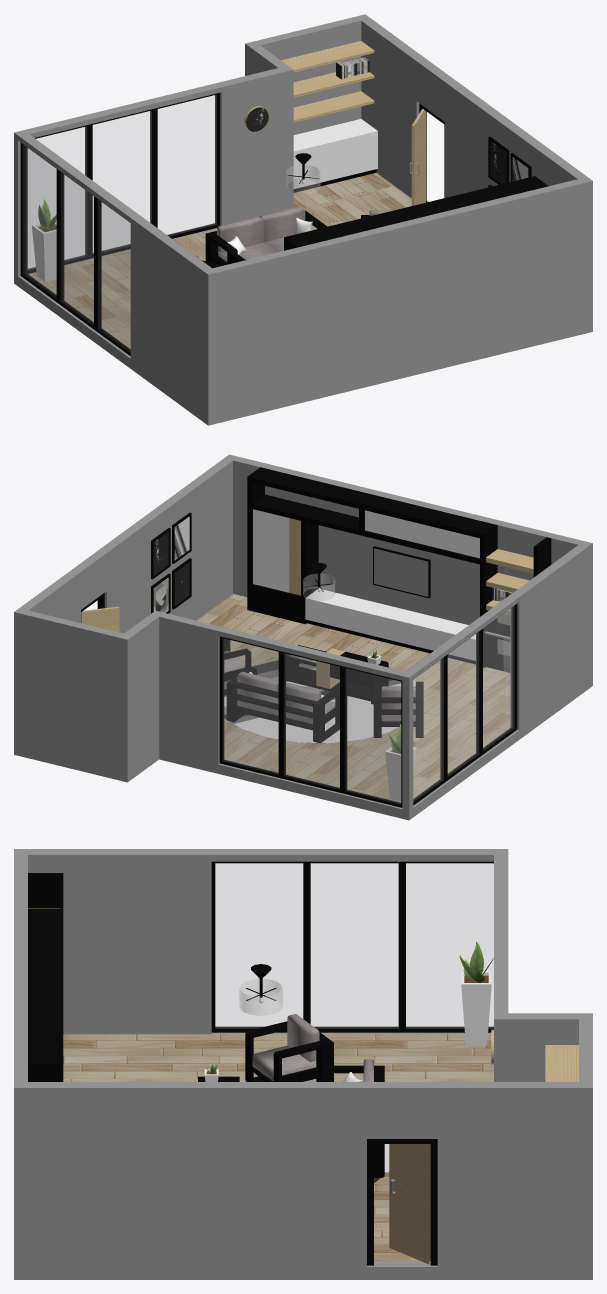
The model's file is livingroom.glb.
The picture shows the model from 3 angles, top to bottom: view 1: azimuth 30°, elevation 25°; view 2: azimuth 150°, elevation 25°; view 3: azimuth 270°, elevation 25°; orthographic projection. The views are drawn at different scales.
Bounding box in the file's own units: 315 × 118 × 323.
Materials: 19 (15 with a texture image).
